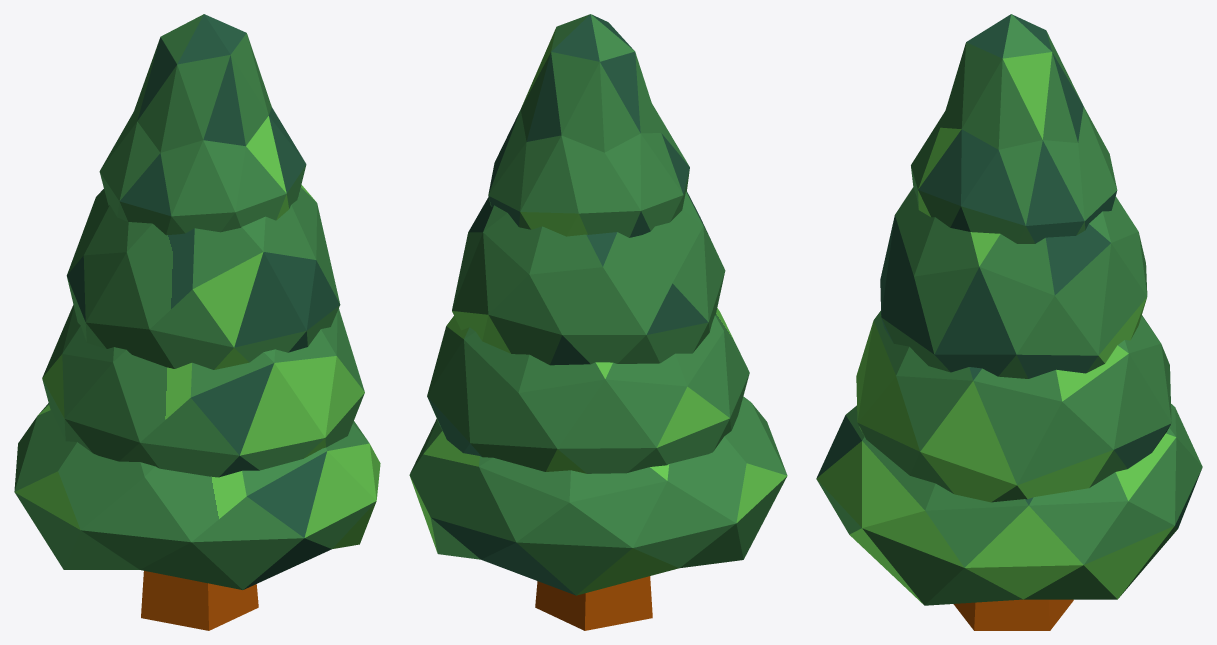
File: Tree_06.fbx
3 renders of one model, left to right at view 1: azimuth 30°, elevation 25°; view 2: azimuth 150°, elevation 25°; view 3: azimuth 270°, elevation 25°, orthographic.
Visible parts, largest first — view 1: Tree_06; view 2: Tree_06; view 3: Tree_06.
Part boxes in pixels (x1=…): Tree_06: x1=14, y1=14, x2=380, y2=630; Tree_06: x1=409, y1=14, x2=787, y2=630; Tree_06: x1=816, y1=14, x2=1202, y2=630.
Size of the model in its own units: 349 by 611 by 358.
